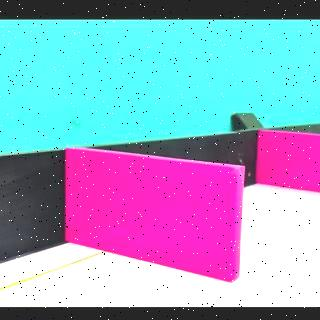xparking: (72, 173, 238, 274), (264, 138, 316, 185)
